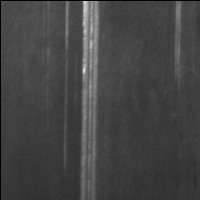scratches: (76, 1, 104, 200), (169, 1, 186, 88)
